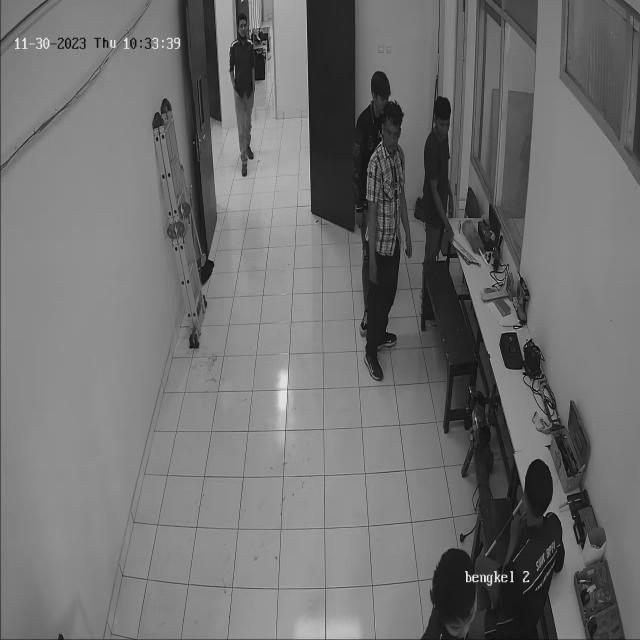person: (355, 73, 401, 377), (418, 89, 454, 327), (228, 15, 264, 176)
